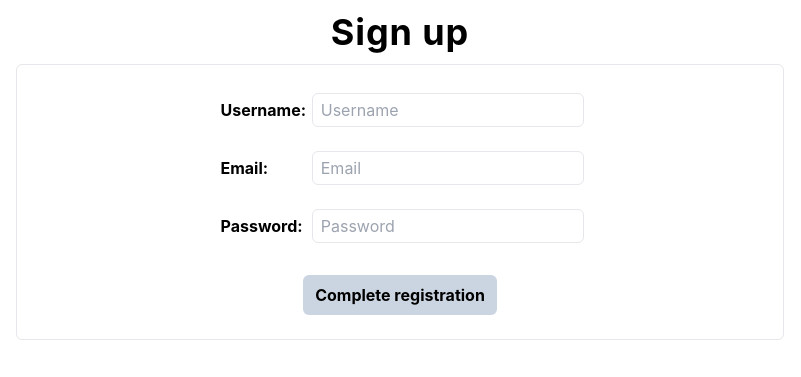
Test case: Registration form tests › User cannot be created
Expected: the heading "Sign up" is shown, [331,12,469,52]
Expected: the button "Complete registration" is shown, [303,275,497,315]
# Fill form
Type "testing" into the field labelled "Username:" at (448, 110), box [312,93,584,127]
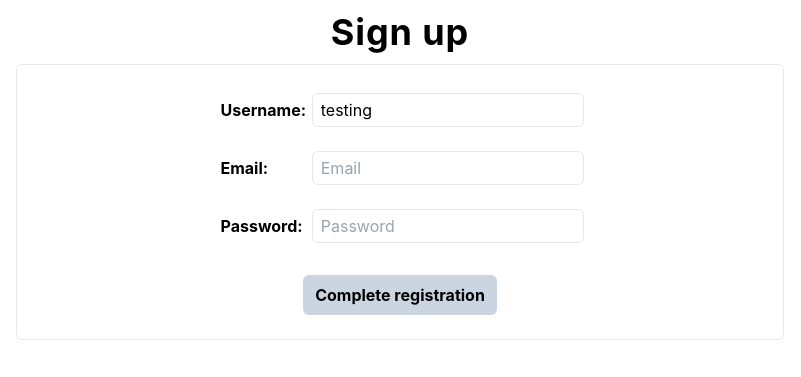
Type "testing@gmail.com" into the field labelled "Email:" at (448, 168), box [312,151,584,185]
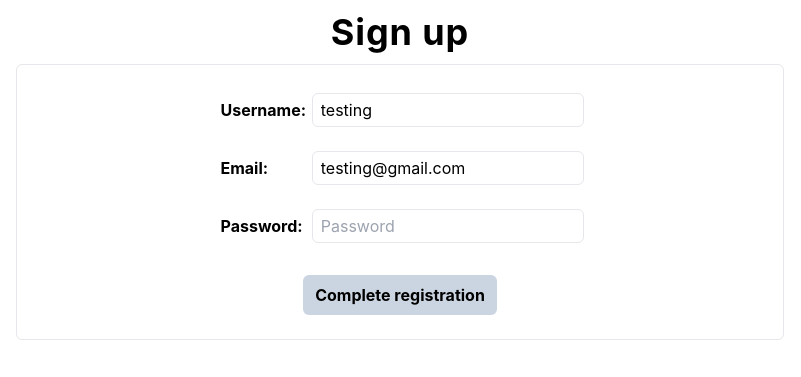
Type "test123456" into the password field labelled "Password:" at (448, 226), box [312,209,584,243]
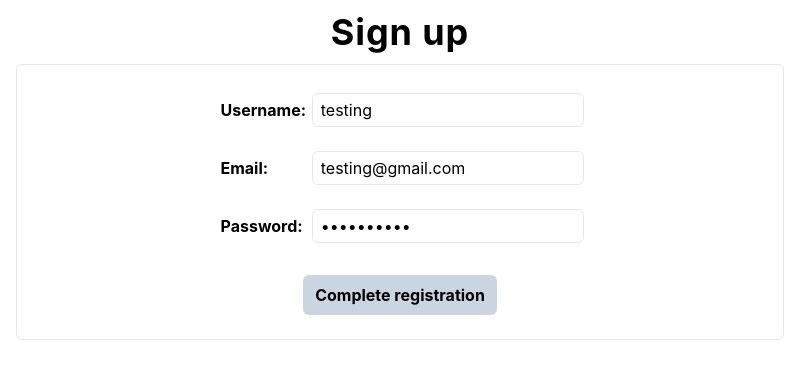
Submit the form from the button "Complete registration", box [303,275,497,315]
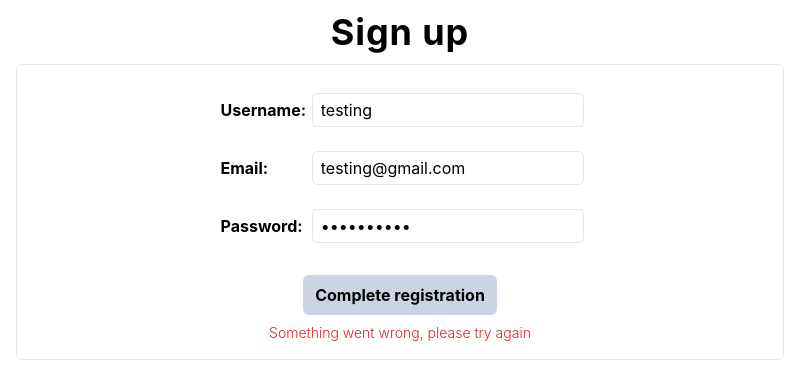
Expected: the heading "Something went wrong, please try again" is shown, [269,323,531,343]
